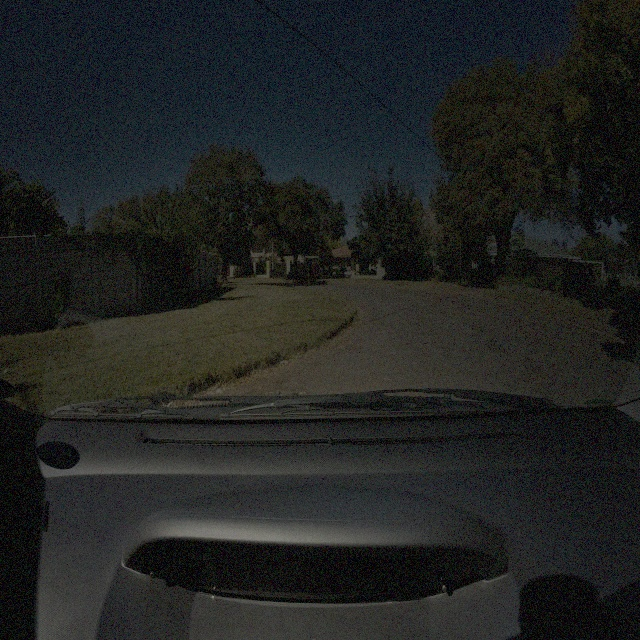pothole: (522, 370, 552, 390), (333, 340, 348, 350), (350, 347, 360, 354)
